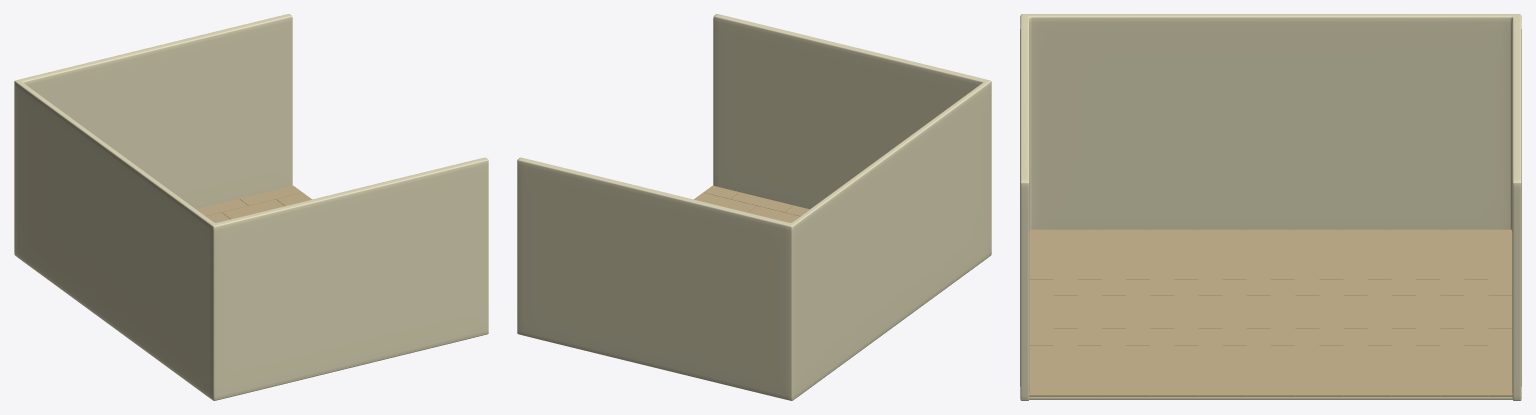
The model's file is Walls.fbx.
The picture shows the model from 3 angles, left to right: view 1: azimuth 30°, elevation 25°; view 2: azimuth 150°, elevation 25°; view 3: azimuth 270°, elevation 25°; orthographic projection. The views are drawn at different scales.
Parts seen in each view (by area): view 1: Walls, Plane.012; view 2: Walls, Plane.012; view 3: Walls, Plane.012, Plane.013.
Boxes of the visible parts, x1=… form: Walls: x1=14, y1=14, x2=488, y2=400; Plane.012: x1=196, y1=185, x2=311, y2=222; Walls: x1=517, y1=14, x2=991, y2=400; Plane.012: x1=694, y1=185, x2=809, y2=222; Walls: x1=1020, y1=14, x2=1521, y2=400; Plane.012: x1=1029, y1=229, x2=1512, y2=396; Plane.013: x1=1029, y1=397, x2=1512, y2=399.
Bounding box in the file's own units: 1316 × 798 × 1653.
